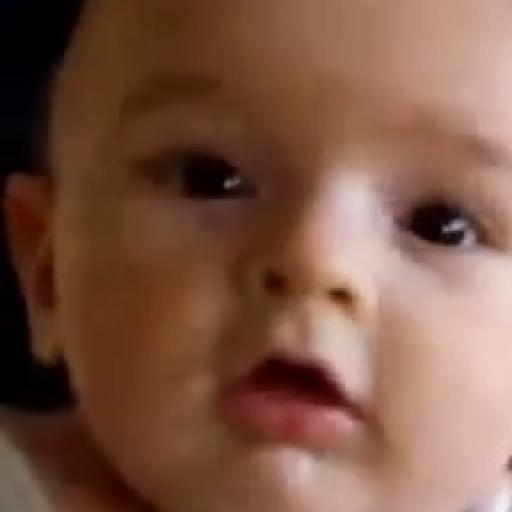Autism: (87, 27, 512, 512)
